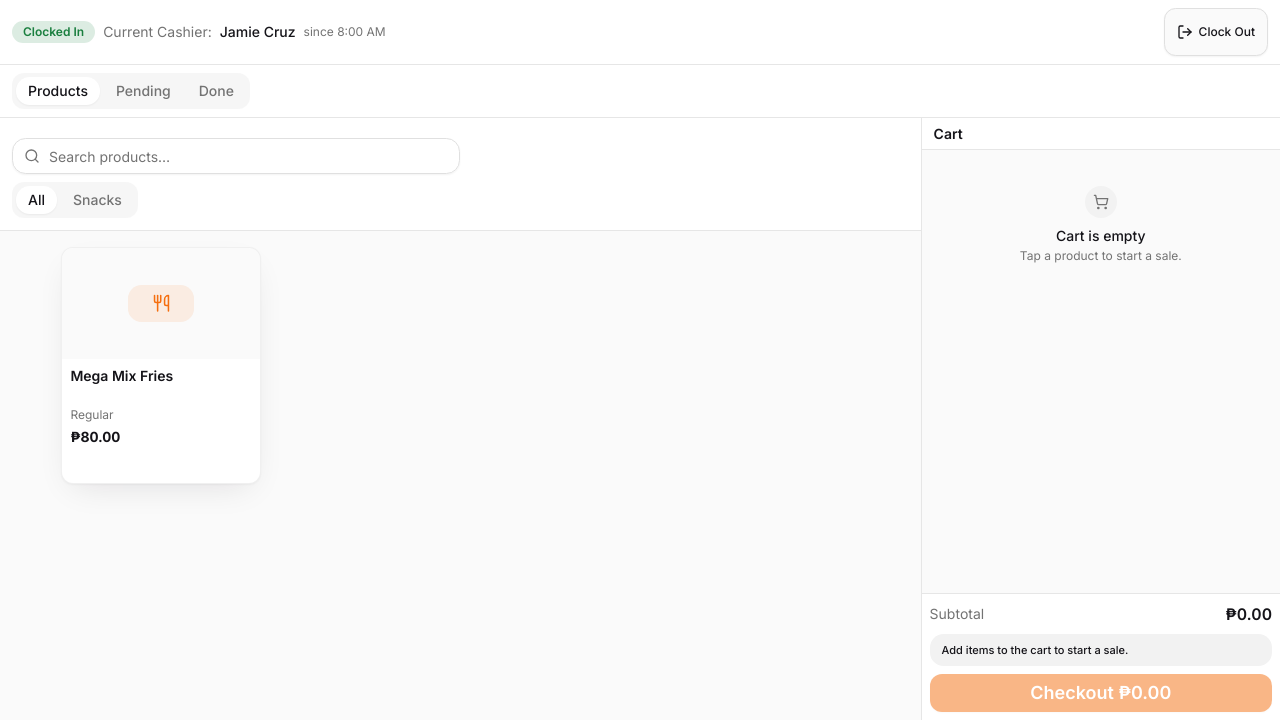
Test: TerminalPage — Add-ons dialog splits into cart lines before adding (Task 107) › uses the configured pos_button_label as the group heading instead of the internal name
Click the text "Mega Mix Fries".
click(122, 376)  # box [70,367,173,384]
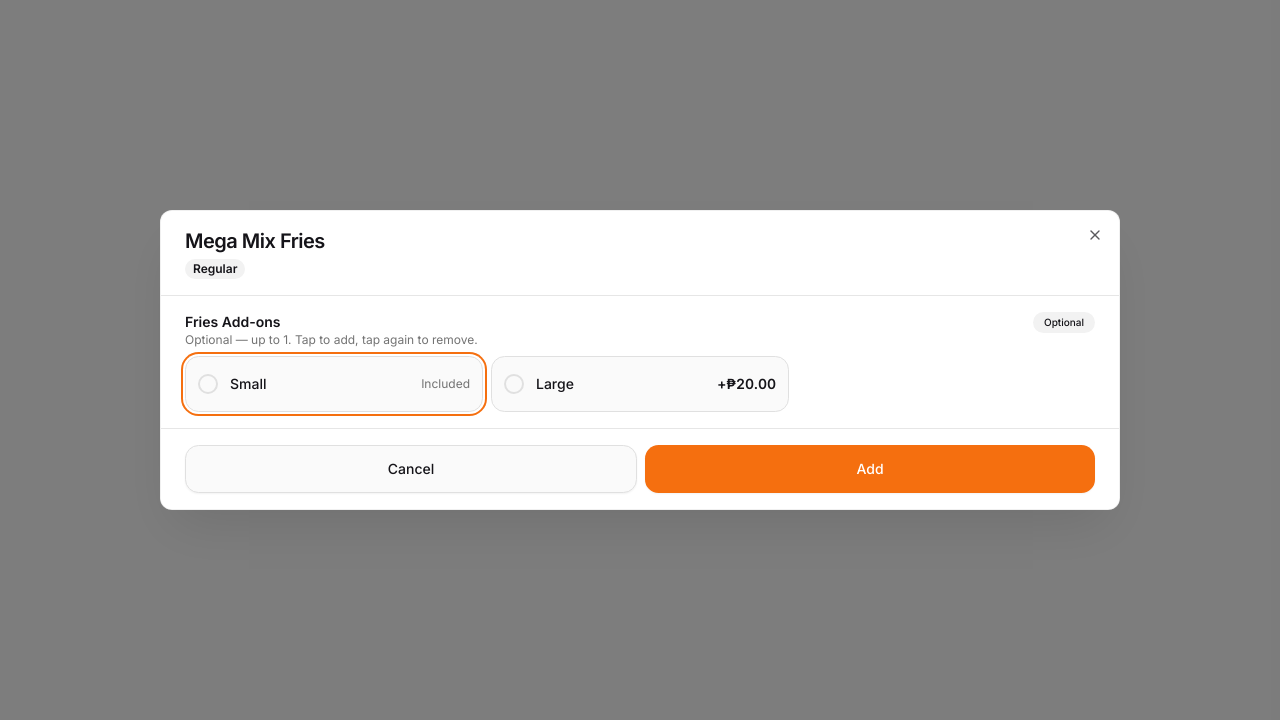
Expected: the heading "Fries Add-ons" is shown, [185,313,280,330]
